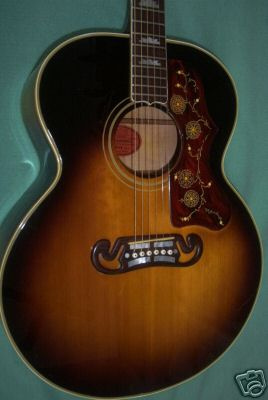guitar: (1, 1, 262, 389)
